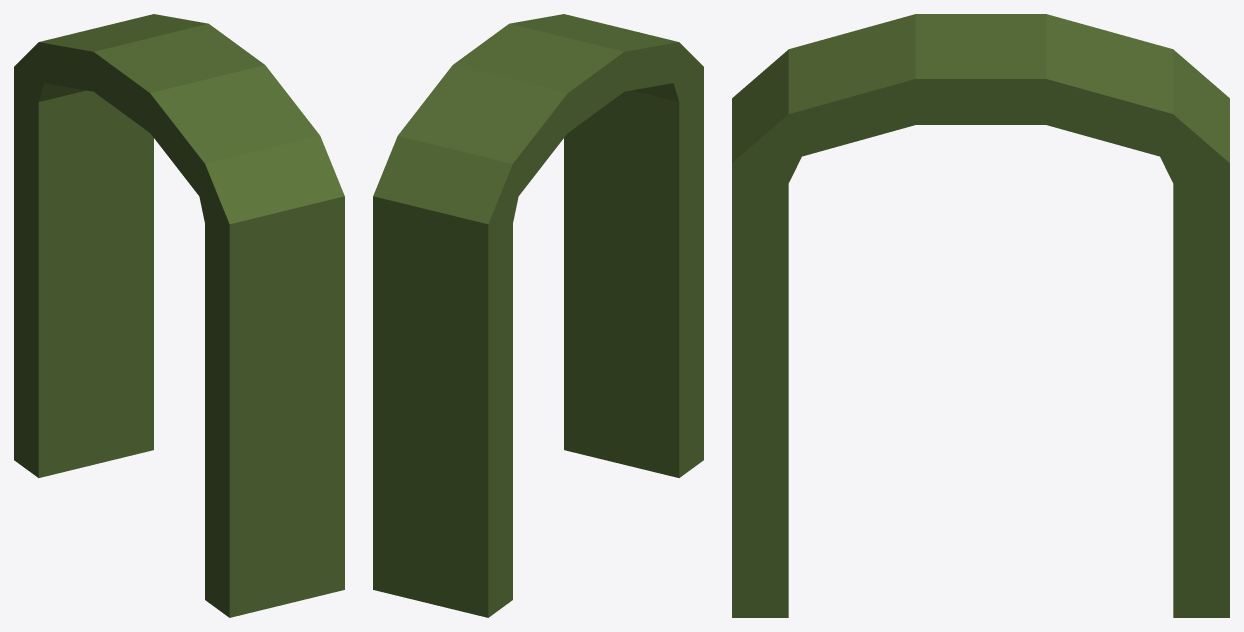
The model's file is Arch.fbx.
3 renders of one model, left to right at view 1: azimuth 30°, elevation 25°; view 2: azimuth 150°, elevation 25°; view 3: azimuth 270°, elevation 25°, orthographic. The views are drawn at different scales.
Visible parts, largest first — view 1: Cube.001; view 2: Cube.001; view 3: Cube.001.
Part boxes in pixels (x1=…): Cube.001: x1=14, y1=14, x2=344, y2=617; Cube.001: x1=373, y1=14, x2=703, y2=617; Cube.001: x1=732, y1=14, x2=1229, y2=617.
Bounding box in the file's own units: 282 × 1092 × 914.
